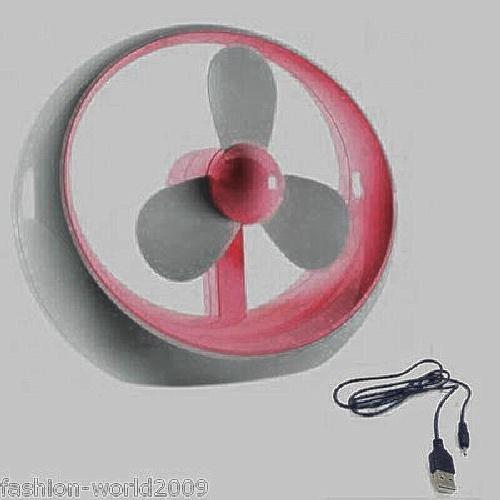fan: (74, 28, 401, 378)
